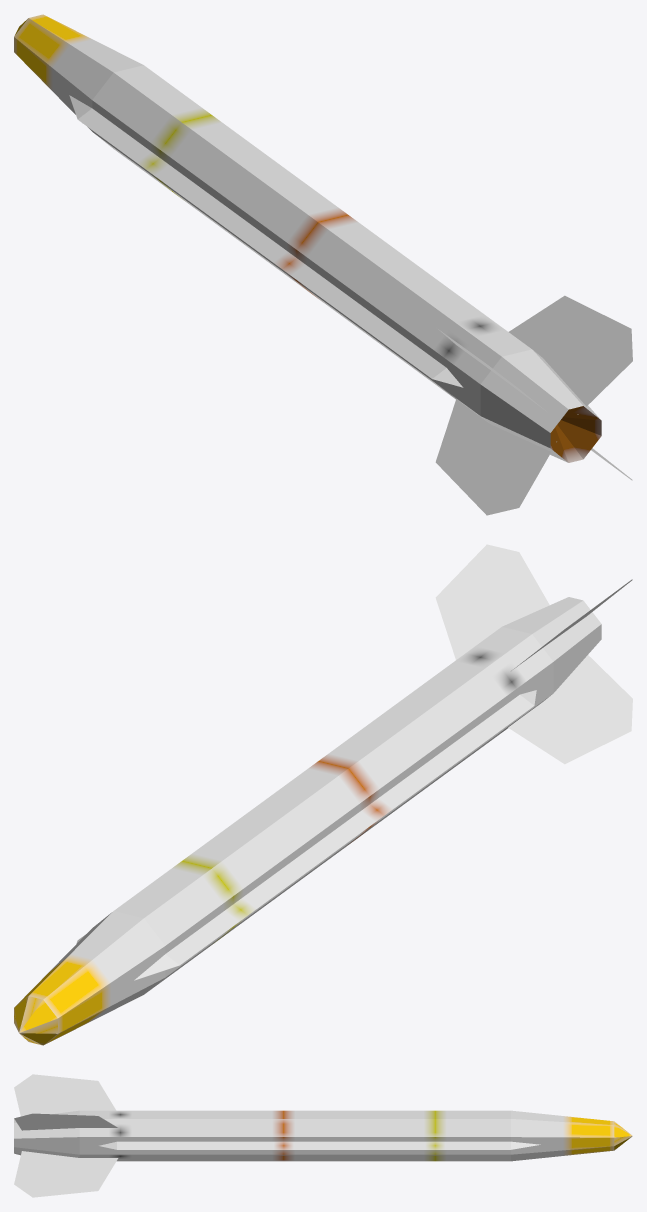
Rendered from agm88g.obj.
3 renders of one model, top to bottom at view 1: azimuth 30°, elevation 25°; view 2: azimuth 150°, elevation 25°; view 3: azimuth 270°, elevation 25°, orthographic. The views are drawn at different scales.
Visible parts, largest first — view 1: cylinder1, cuboid1, plane3, plane, cylinder; view 2: cylinder1, cylinder, cuboid1, plane3, plane; view 3: cylinder1, cylinder, cuboid, plane2, plane1, plane.
Part boxes in pixels (x1=…): cylinder1: x1=92, y1=65, x2=601, y2=462; cuboid1: x1=69, y1=95, x2=463, y2=387; plane3: x1=435, y1=399, x2=556, y2=515; plane: x1=509, y1=295, x2=632, y2=414; cylinder: x1=14, y1=14, x2=143, y2=131; cylinder1: x1=114, y1=597, x2=601, y2=991; cylinder: x1=14, y1=911, x2=165, y2=1045; cuboid1: x1=134, y1=690, x2=536, y2=980; plane3: x1=508, y1=655, x2=632, y2=764; plane: x1=435, y1=544, x2=549, y2=659; cylinder1: x1=14, y1=1110, x2=510, y2=1161; cylinder: x1=511, y1=1110, x2=632, y2=1161; cuboid: x1=99, y1=1141, x2=540, y2=1149; plane2: x1=14, y1=1151, x2=118, y2=1197; plane1: x1=14, y1=1074, x2=116, y2=1116; plane: x1=14, y1=1113, x2=117, y2=1130.
Size of the model in its own units: 0.6187 by 0.6187 by 4.13.
